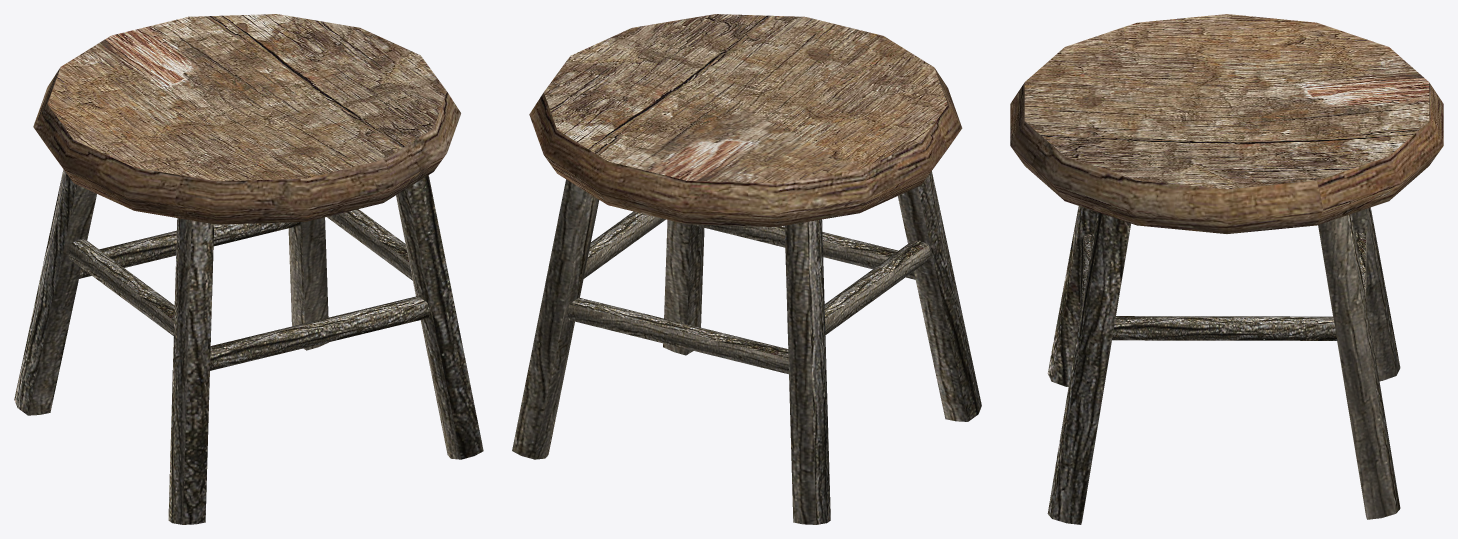
The model's file is Stool.fbx.
The picture shows the model from 3 angles, left to right: view 1: azimuth 30°, elevation 25°; view 2: azimuth 150°, elevation 25°; view 3: azimuth 270°, elevation 25°; orthographic projection. The views are drawn at different scales.
Visible parts, largest first — view 1: polySurface27; view 2: polySurface27; view 3: polySurface27.
Part boxes in pixels (<box>): polySurface27: <box>14,14,483,524</box>; polySurface27: <box>512,14,981,524</box>; polySurface27: <box>1010,14,1443,524</box>.
Bounding box in the file's own units: 0.7207 × 0.6256 × 0.7027.
